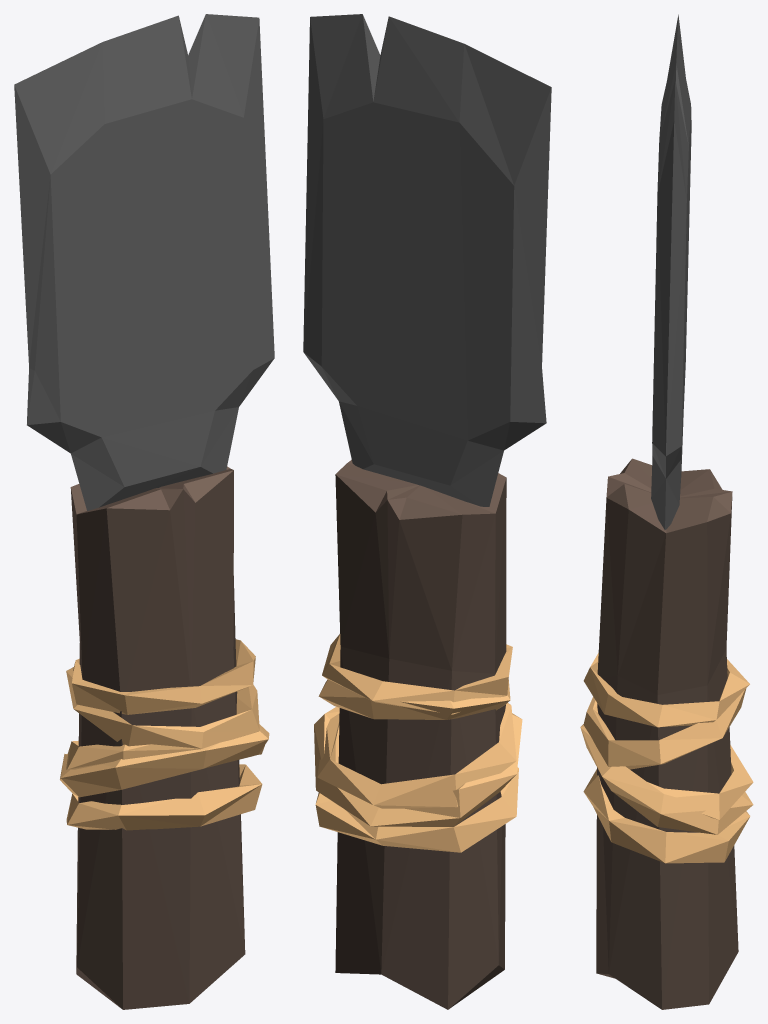
The model's file is Tool_001.fbx.
The picture shows the model from 3 angles, left to right: view 1: azimuth 30°, elevation 25°; view 2: azimuth 150°, elevation 25°; view 3: azimuth 270°, elevation 25°; orthographic projection. The views are drawn at different scales.
Visible parts, largest first — view 1: Tool_001; view 2: Tool_001; view 3: Tool_001.
Part boxes in pixels (x1,y1,x2,y2): Tool_001: [14, 14, 274, 1009]; Tool_001: [303, 14, 551, 1009]; Tool_001: [580, 14, 753, 1009].
Bounding box in the file's own units: 0.0681 × 0.2445 × 0.0413.
